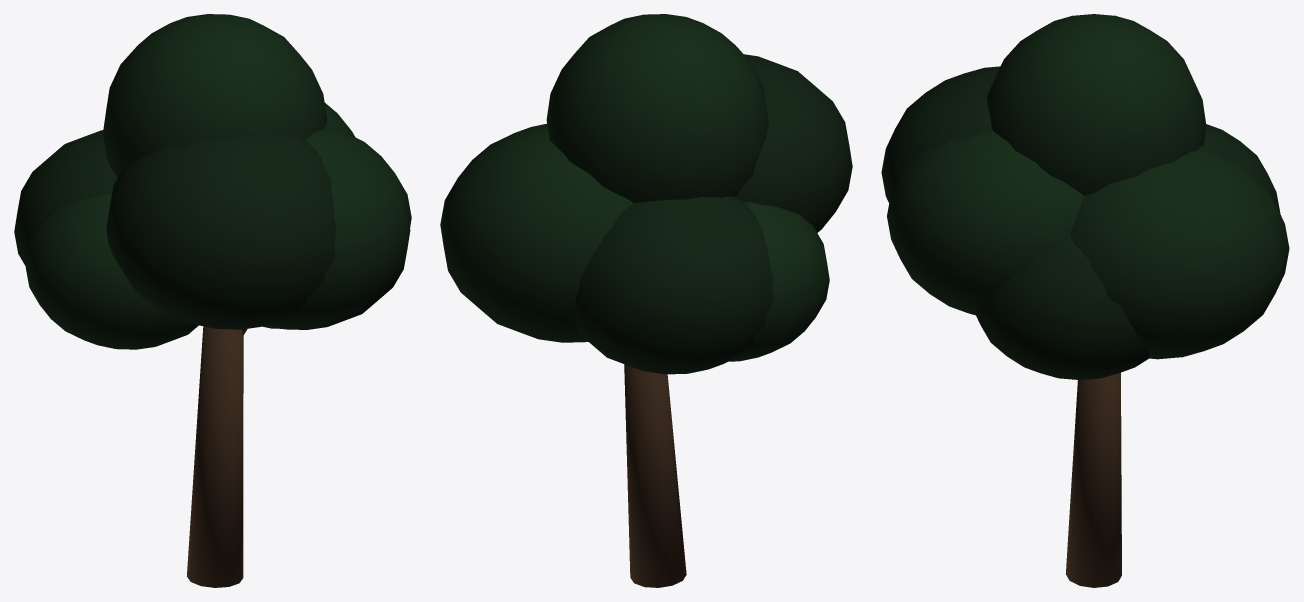
File: Broadleaf_A.fbx
3 views of the same model, side by side, from view 1: azimuth 30°, elevation 25°; view 2: azimuth 150°, elevation 25°; view 3: azimuth 270°, elevation 25° (orthographic).
Parts seen in each view (by area): view 1: Broadleaf_A; view 2: Broadleaf_A; view 3: Broadleaf_A.
Part boxes in pixels (<box>): Broadleaf_A: <box>14,14,411,587</box>; Broadleaf_A: <box>440,14,852,587</box>; Broadleaf_A: <box>881,14,1289,587</box>.
Size of the model in its own units: 5.58 by 8.66 by 5.8.
